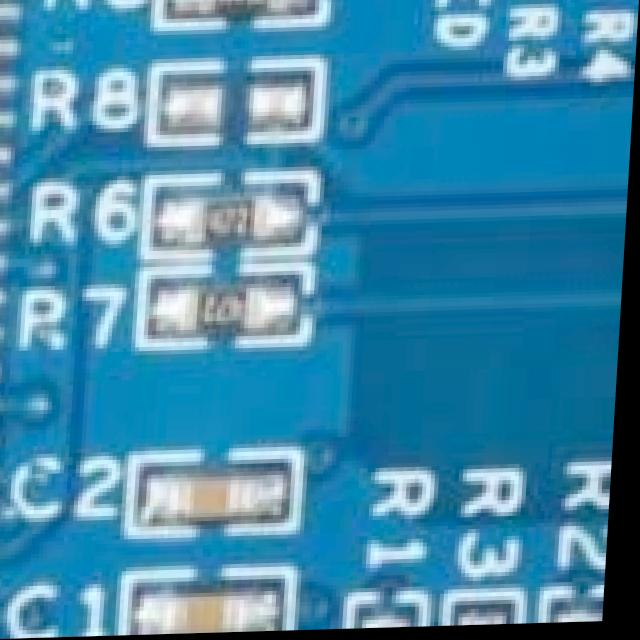capacitor: (134, 573, 293, 636), (167, 457, 296, 530)
resistor: (168, 277, 297, 348), (188, 181, 299, 251), (183, 0, 308, 28), (434, 607, 527, 629)
